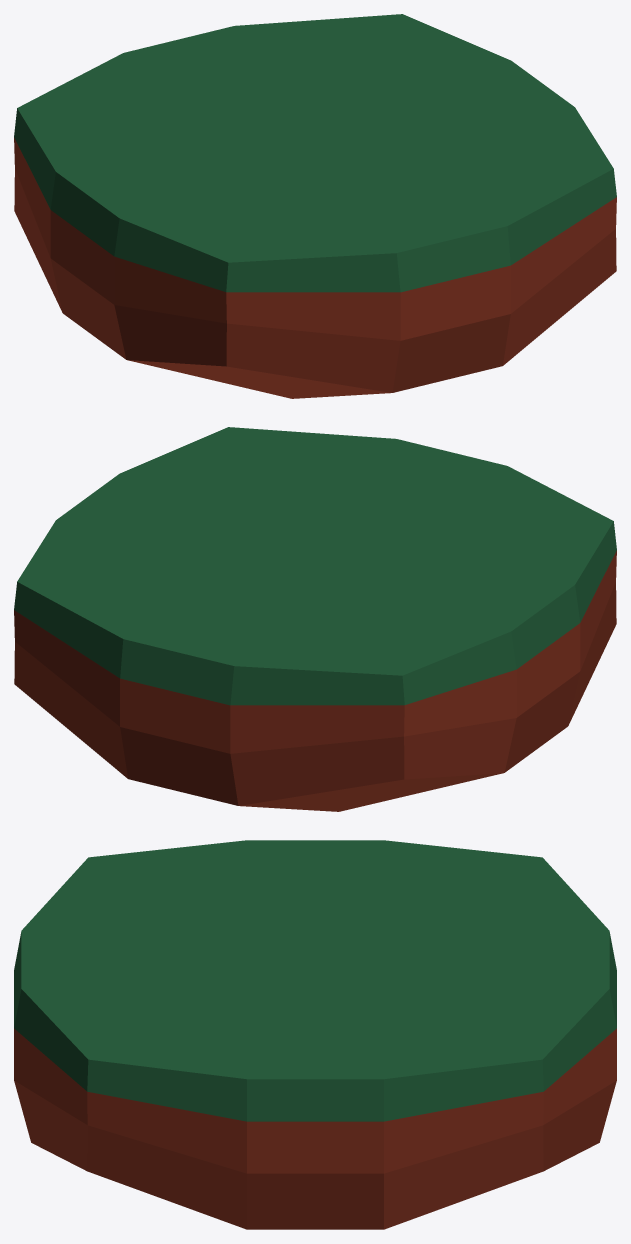
File: plat.fbx
3 views of the same model, one above another, from view 1: azimuth 30°, elevation 25°; view 2: azimuth 150°, elevation 25°; view 3: azimuth 270°, elevation 25° (orthographic). The views are drawn at different scales.
Visible parts, largest first — view 1: Cube.001; view 2: Cube.001; view 3: Cube.001.
Part boxes in pixels (x1,y1,x2,y2): Cube.001: (14, 14, 616, 398); Cube.001: (14, 427, 616, 811); Cube.001: (14, 840, 616, 1229).
Size of the model in its own units: 1259 by 577 by 1313.
